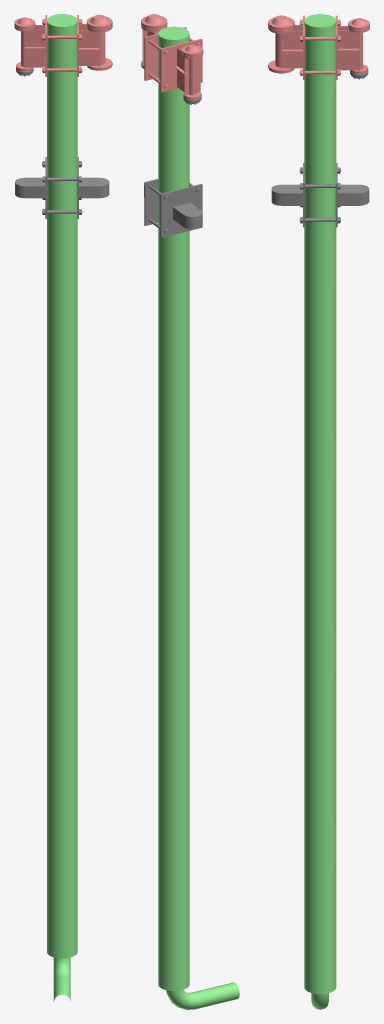
The model's file is SM_SUG_All_Main.gltf.
The picture shows the model from 3 angles, left to right: view 1: azimuth 90°, elevation 25°; view 2: azimuth 210°, elevation 25°; view 3: azimuth 270°, elevation 25°; orthographic projection. The views are drawn at different scales.
Parts seen in each view (by area): view 1: SM_SUG_All_Main; view 2: SM_SUG_All_Main; view 3: SM_SUG_All_Main.
Boxes of the visible parts, x1,y1,x2,y2 form: SM_SUG_All_Main: [14, 14, 112, 1001]; SM_SUG_All_Main: [141, 14, 239, 1009]; SM_SUG_All_Main: [268, 14, 369, 1009].
Bounding box in the file's own units: 0.5371 × 6.09 × 0.5623.
